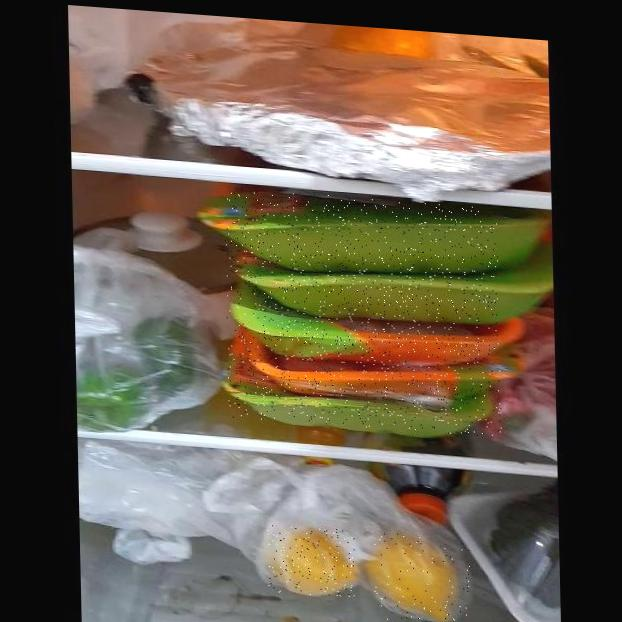chicken: (224, 187, 502, 438)
lemon: (373, 532, 471, 622), (267, 524, 357, 599)
